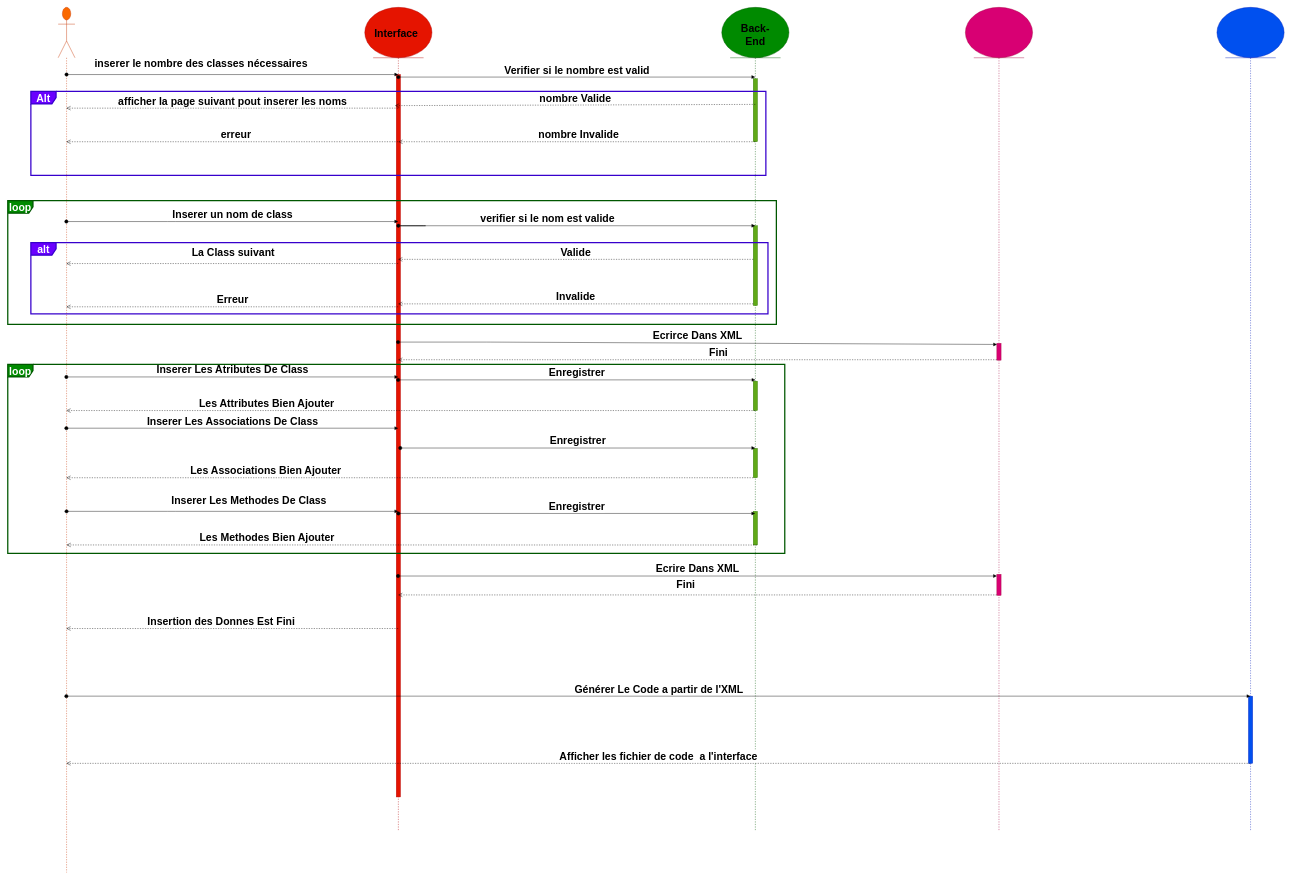
Some shapes in this 1292 by 880 pixel diagram are drawn without their labels. Each missing label, with the box of its shape:
Converteur: (1217, 7, 1284, 831)
Generatreur De XML: (965, 7, 1033, 831)
